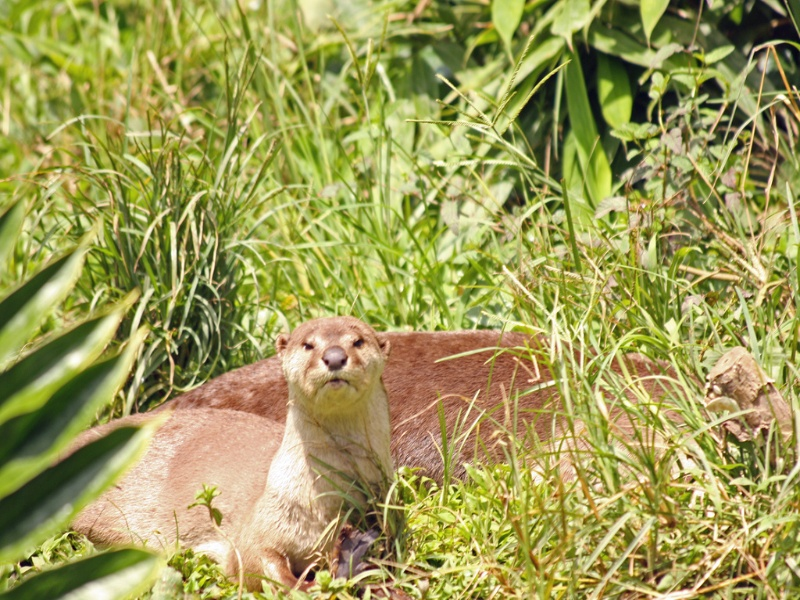minkish: (65, 312, 399, 595)
